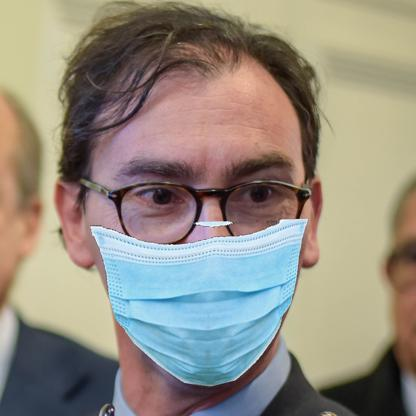mask: (86, 216, 311, 390)
